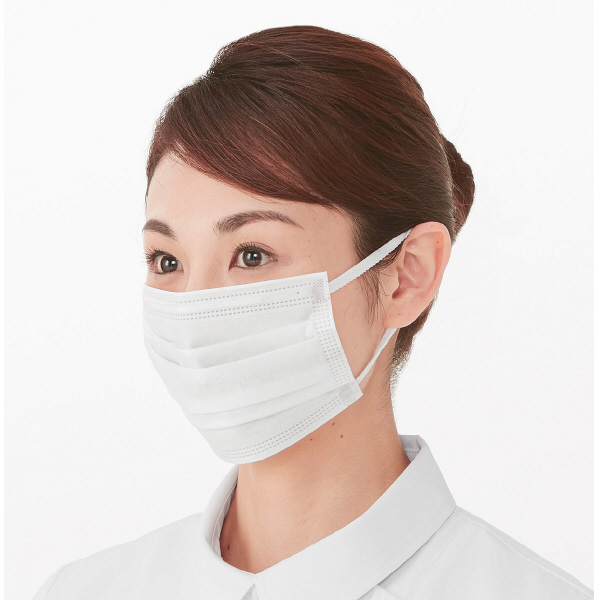mask: (119, 283, 376, 464)
